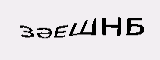Б: (124, 16, 147, 35)
Е: (53, 23, 69, 39)
З: (17, 24, 34, 39)
Н: (100, 15, 122, 37)
Ш: (66, 18, 98, 37)
Ә: (35, 27, 52, 40)
